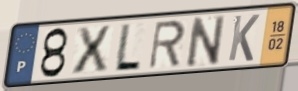8: (38, 26, 70, 80)
K: (226, 13, 262, 63)
L: (112, 22, 143, 72)
N: (185, 13, 227, 70)
R: (147, 19, 188, 72)
X: (70, 24, 112, 77)
